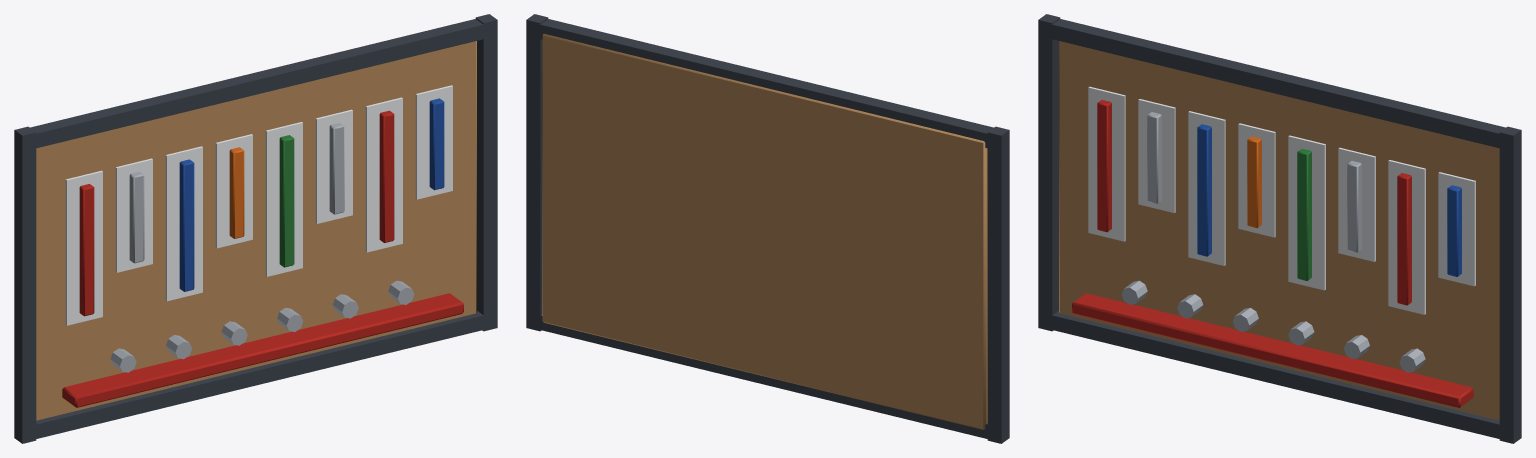
File: engtool_tool_wall_board.glb
The picture shows the model from 3 angles, left to right: view 1: azimuth 30°, elevation 25°; view 2: azimuth 150°, elevation 25°; view 3: azimuth 330°, elevation 25°; orthographic projection.
Visible parts, largest first — view 1: engtool_tool_wall_board; view 2: engtool_tool_wall_board; view 3: engtool_tool_wall_board.
Boxes of the visible parts, x1,y1,x2,y2 form: engtool_tool_wall_board: (14,14,497,443); engtool_tool_wall_board: (526,14,1009,443); engtool_tool_wall_board: (1038,14,1521,443).
Bounding box in the file's own units: 1.71 × 1.06 × 0.12.
